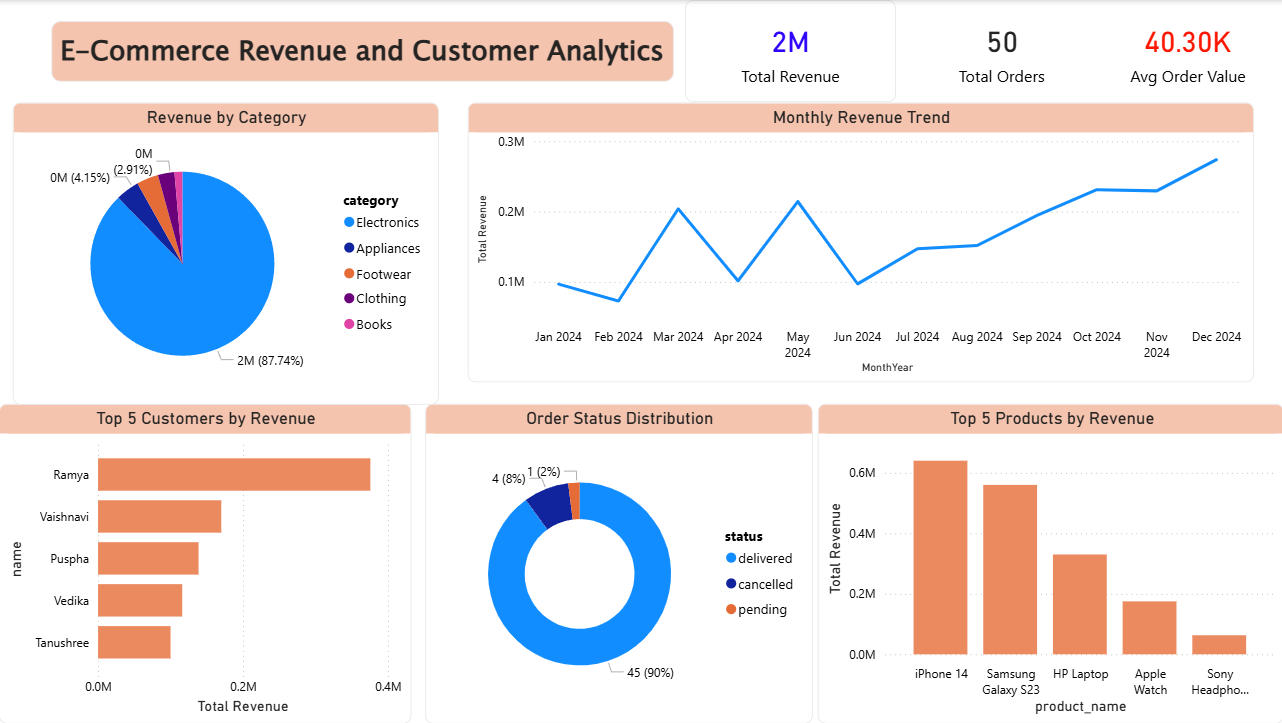

This screenshot's page, from the dashboard's own definition file:
{"tool":"powerbi","page":{"name":"Dashboard","canvas":[1280,720],"ordinal":0},"visuals":[{"type":"card","fields":{"Values":["Customers.Avg Order Value"]},"box":[1085.4,0,194.9,101.5],"z":0},{"type":"card","fields":{"Values":["Customers.Total Revenue"]},"box":[683.4,0,209.9,101.5],"z":1000},{"type":"card","fields":{"Values":["Customers.Total Orders"]},"box":[893.3,0,209.9,101.5],"z":2000},{"type":"lineChart","title":"Monthly Revenue Trend","fields":{"Y":["Customers.Total Revenue"],"Category":["Orders.MonthYear"]},"box":[466.6,101.5,782.2,278.6],"z":3000},{"type":"columnChart","title":"Top 5 Products by Revenue","fields":{"Category":["Products.product_name"],"Y":["Customers.Total Revenue"]},"box":[815.1,402.1,465.2,318.4],"z":4000},{"type":"clusteredBarChart","title":"Top 5 Customers by Revenue","fields":{"Category":["Customers.name"],"Y":["Customers.Total Revenue"]},"box":[0,402.1,410.3,318.4],"z":5000},{"type":"pieChart","title":"Revenue by Category","fields":{"Category":["Products.category"],"Y":["Customers.Total Revenue"]},"box":[13.7,101.5,424,300.5],"z":6000},{"type":"donutChart","title":"Order Status Distribution","fields":{"Category":["Orders.status"],"Y":["CountNonNull(Orders.order_id)"]},"box":[424,402.1,385.6,318.4],"z":7000},{"type":"textbox","box":[52.1,20.6,618.9,60.4],"z":8000}]}

Visuals, with their boxes in screenshot pixels (x1, y1, x2, y2), scaled from the page's 1280x720 canvas onto the 1282x723 screenshot:
card - Customers.Avg Order Value: left=1087, top=0, right=1281, bottom=102
card - Customers.Total Revenue: left=684, top=0, right=895, bottom=102
card - Customers.Total Orders: left=895, top=0, right=1105, bottom=102
"Monthly Revenue Trend" lineChart: left=467, top=102, right=1251, bottom=382
"Top 5 Products by Revenue" columnChart: left=816, top=404, right=1281, bottom=722
"Top 5 Customers by Revenue" clusteredBarChart: left=0, top=404, right=411, bottom=722
"Revenue by Category" pieChart: left=14, top=102, right=438, bottom=404
"Order Status Distribution" donutChart: left=425, top=404, right=811, bottom=722
textbox: left=52, top=21, right=672, bottom=81
